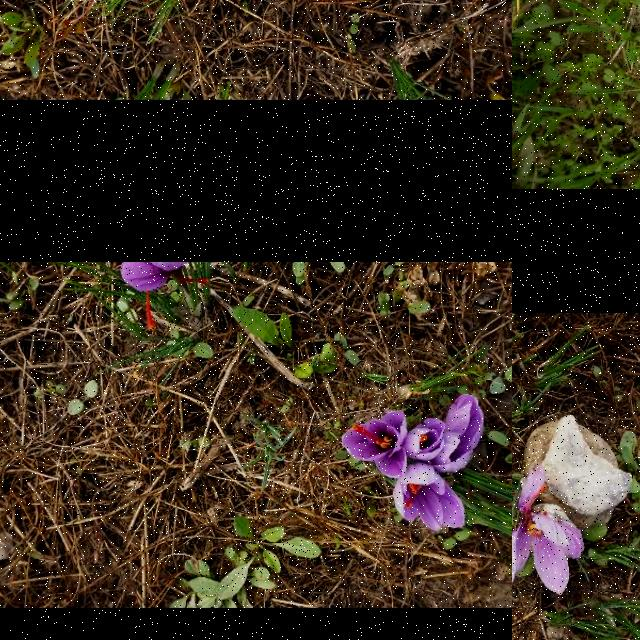flower: (512, 470, 584, 598), (119, 262, 210, 329), (392, 463, 466, 533), (342, 408, 408, 478), (433, 394, 485, 474), (406, 418, 446, 462)
